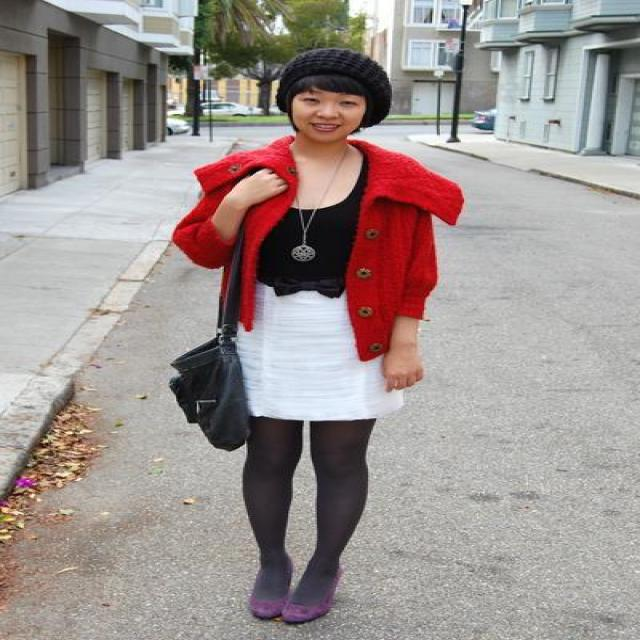bag: (173, 330, 254, 450)
hat: (256, 49, 413, 133)
jacket: (173, 132, 462, 370)
shirt: (256, 144, 370, 295)
shoe: (248, 576, 338, 626)
skirt: (230, 284, 404, 421)
